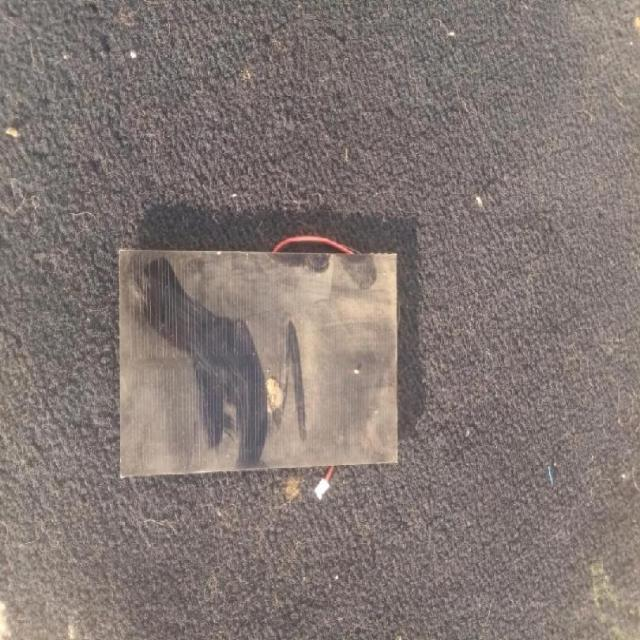faulty: (120, 241, 396, 474)
